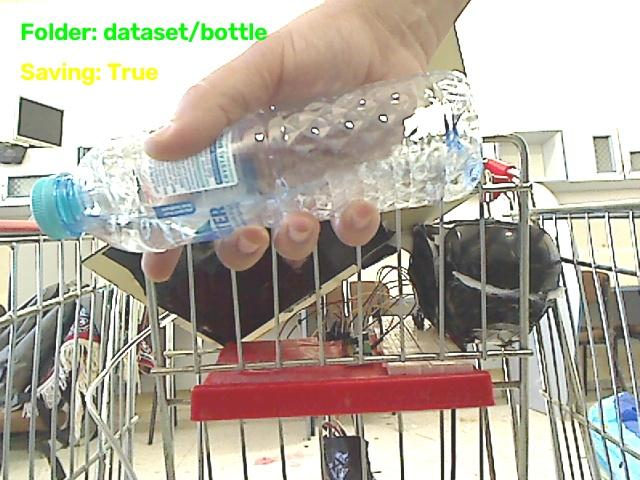Bottle: (32, 72, 482, 250)
